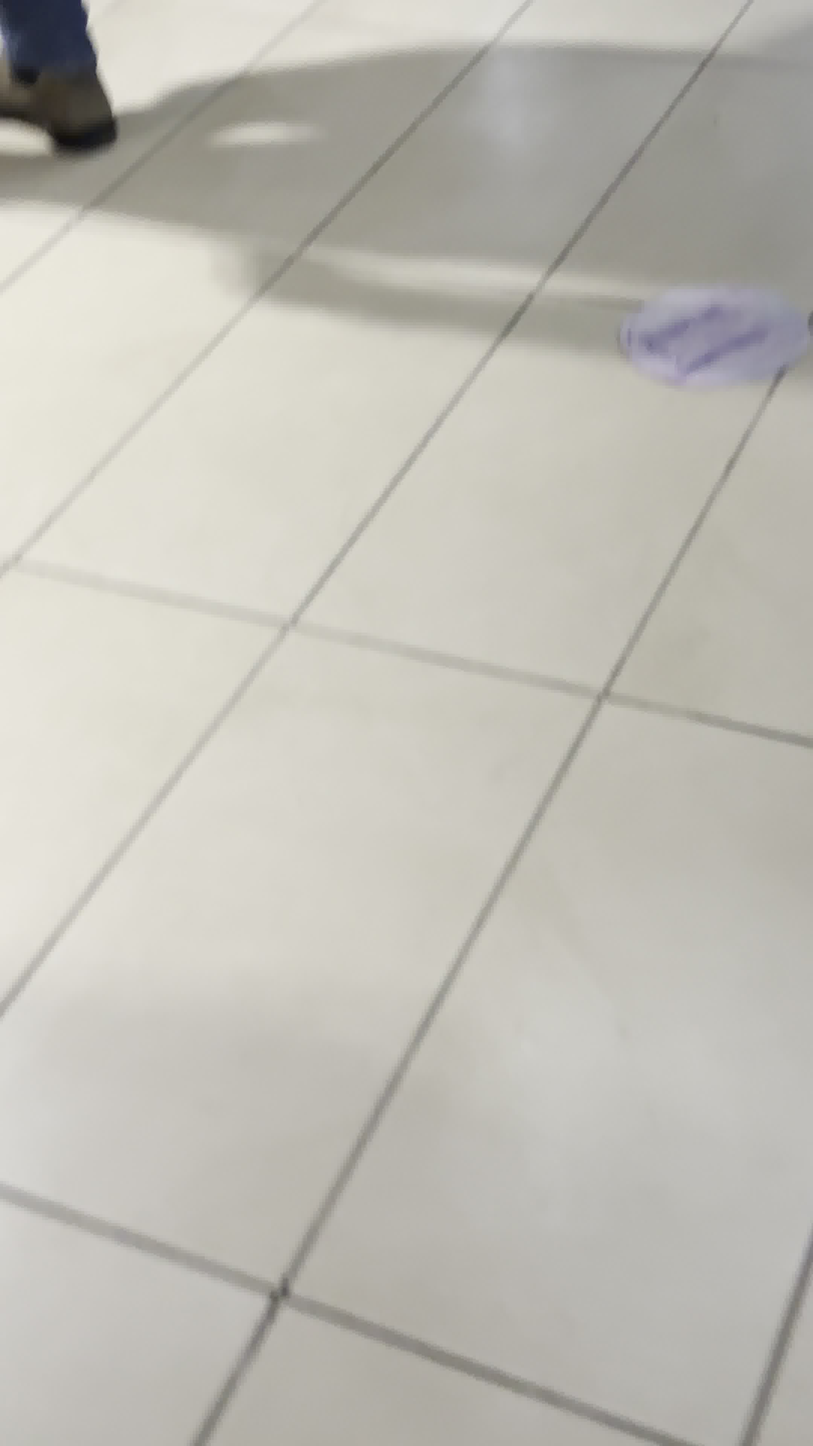Target: (626, 290, 811, 390)
